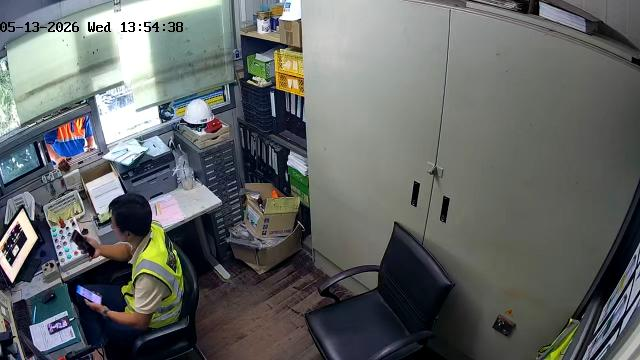Head: (109, 194, 151, 243)
People: (77, 194, 183, 348)
Phone: (71, 230, 94, 256), (77, 285, 101, 303), (48, 316, 70, 333)
